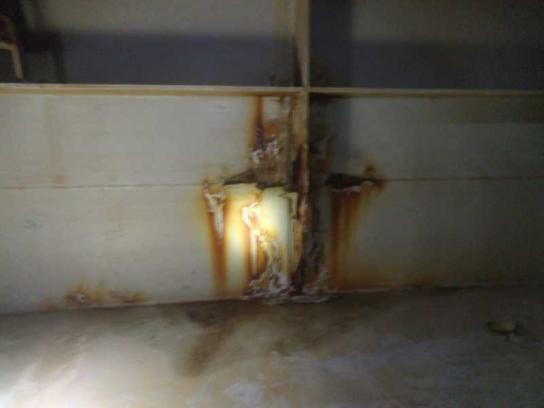corrosion: (281, 101, 322, 300), (324, 166, 387, 294), (241, 91, 311, 178), (187, 189, 234, 311), (239, 194, 277, 299), (39, 286, 156, 318)
